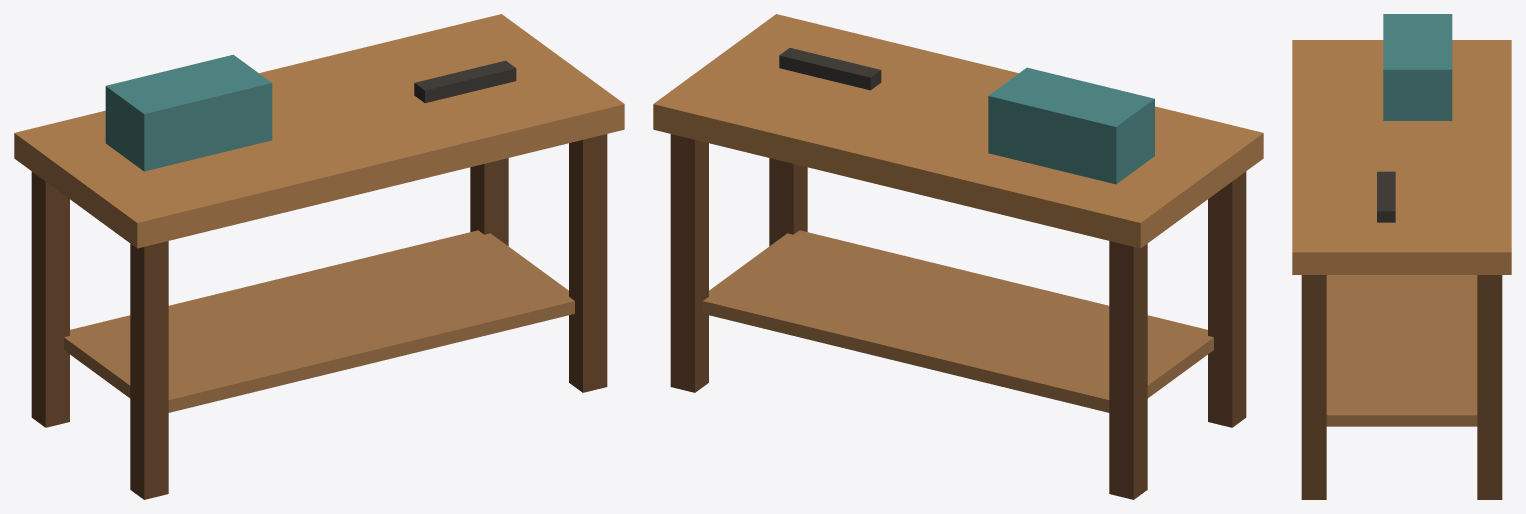
File: prop_workbench.glb
3 views of the same model, side by side, from view 1: azimuth 30°, elevation 25°; view 2: azimuth 150°, elevation 25°; view 3: azimuth 270°, elevation 25° (orthographic). The views are drawn at different scales.
Parts seen in each view (by area): view 1: Prop_Workbench; view 2: Prop_Workbench; view 3: Prop_Workbench.
Part boxes in pixels (<box>): Prop_Workbench: <box>14,14,624,499</box>; Prop_Workbench: <box>653,14,1263,499</box>; Prop_Workbench: <box>1292,14,1511,499</box>.
Size of the model in its own units: 1.6 by 1.07 by 0.7.
